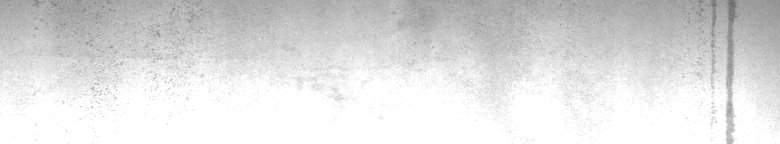ib: (53, 4, 199, 100)
